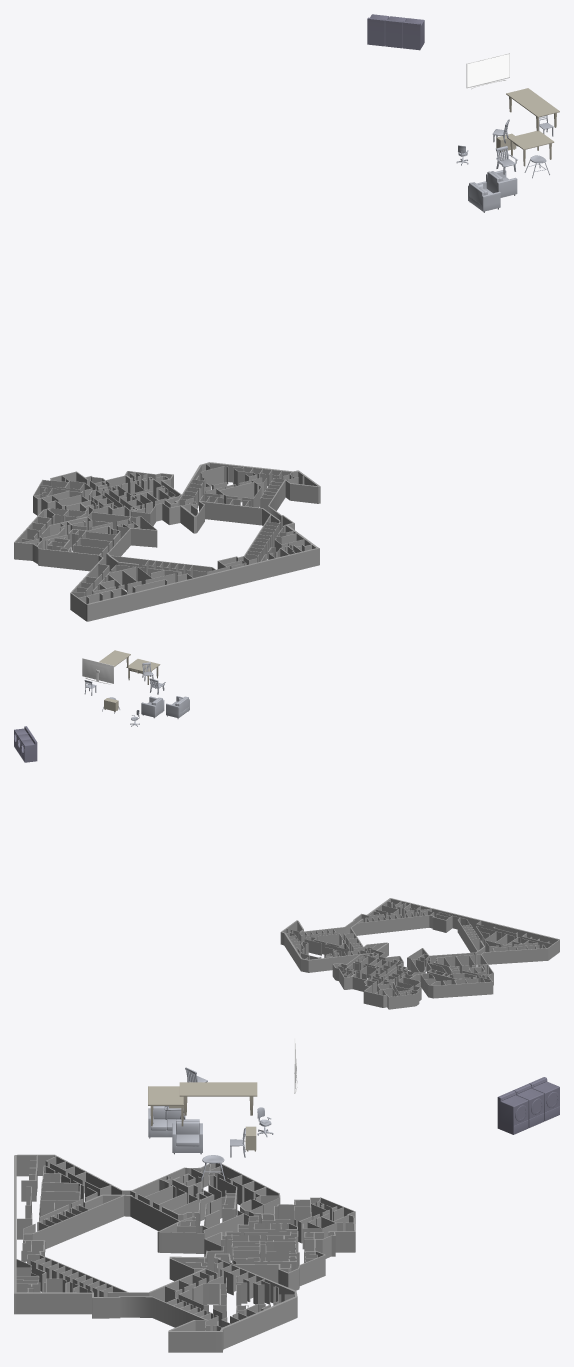
The model's file is Completemap.fbx.
The picture shows the model from 3 angles, top to bottom: view 1: azimuth 30°, elevation 25°; view 2: azimuth 150°, elevation 25°; view 3: azimuth 270°, elevation 25°; orthographic projection. The views are drawn at different scales.
Visible parts, largest first — view 1: Section1_Outline, Section2, Section3, Section5, Garbage, Section4, TV, LongTable, DoubleCouch; view 2: Section1_Outline, Section2, Section3, Section5, Section4, Garbage, TV; view 3: Section1_Outline, Section2, Section3, Section5, Garbage, Section4, LongTable, SingleCouch, SmallTable, DoubleCouch.
Part boxes in pixels (x1=…): Section1_Outline: x1=14, y1=462, x2=320, y2=621; Section2: x1=180, y1=463, x2=304, y2=515; Section3: x1=34, y1=472, x2=175, y2=514; Section5: x1=72, y1=560, x2=192, y2=603; Garbage: x1=367, y1=14, x2=424, y2=50; Section4: x1=224, y1=521, x2=311, y2=569; TV: x1=466, y1=53, x2=509, y2=89; LongTable: x1=506, y1=88, x2=559, y2=131; DoubleCouch: x1=468, y1=181, x2=500, y2=212; Section1_Outline: x1=280, y1=898, x2=559, y2=1009; Section2: x1=286, y1=928, x2=376, y2=959; Section3: x1=338, y1=956, x2=415, y2=996; Section5: x1=462, y1=921, x2=552, y2=951; Section4: x1=365, y1=901, x2=451, y2=922; Garbage: x1=14, y1=726, x2=37, y2=762; TV: x1=82, y1=658, x2=113, y2=684; Section1_Outline: x1=14, y1=1154, x2=355, y2=1352; Section2: x1=165, y1=1258, x2=294, y2=1330; Section3: x1=226, y1=1198, x2=353, y2=1272; Section5: x1=17, y1=1155, x2=111, y2=1239; Garbage: x1=497, y1=1077, x2=559, y2=1134; Section4: x1=16, y1=1240, x2=112, y2=1296; LongTable: x1=179, y1=1082, x2=257, y2=1115; SingleCouch: x1=172, y1=1119, x2=202, y2=1154; SmallTable: x1=148, y1=1086, x2=183, y2=1126; DoubleCouch: x1=148, y1=1106, x2=185, y2=1138.
Bounding box in the file's own units: 40.82 × 24.99 × 28.43.
